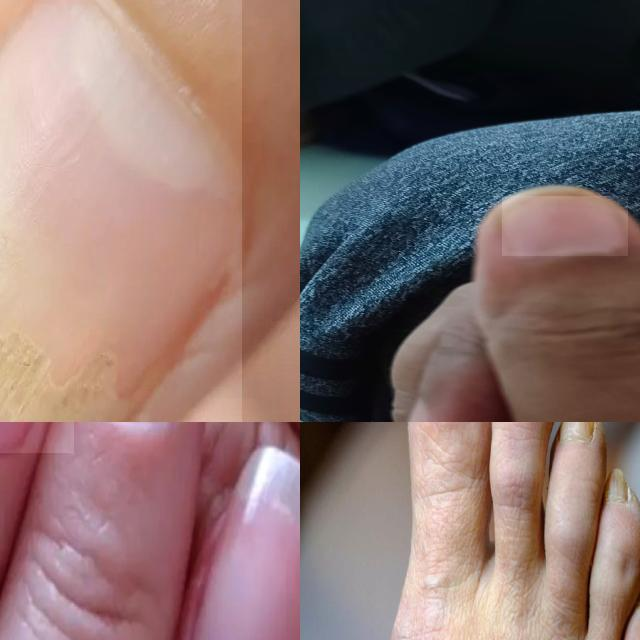diabetes: (603, 468, 629, 502), (560, 422, 594, 440)
sehat: (502, 196, 628, 256)
